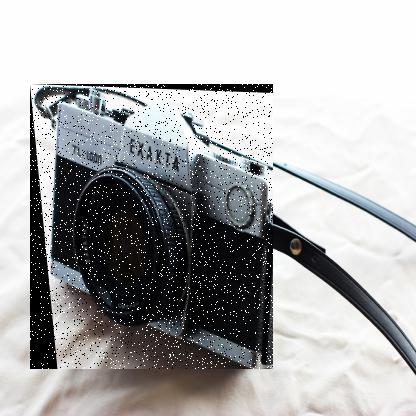Camera: (31, 85, 275, 371)
